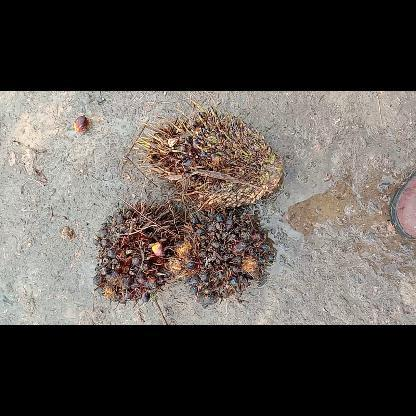TBS abnormal: (135, 100, 281, 212), (92, 198, 184, 302), (168, 209, 274, 299)
